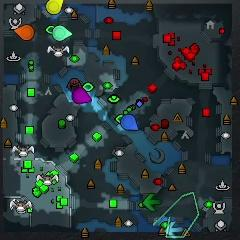p1: (121, 114, 138, 131)
p2: (53, 26, 72, 41)
p3: (73, 88, 91, 104)
p4: (46, 0, 63, 15)
p5: (15, 25, 35, 41)
x3: (165, 221, 183, 236)
x4: (143, 193, 162, 210)
